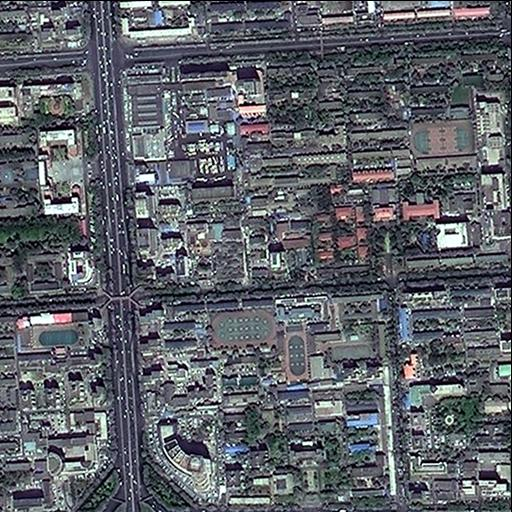school: (11, 304, 114, 359), (275, 297, 328, 384)
